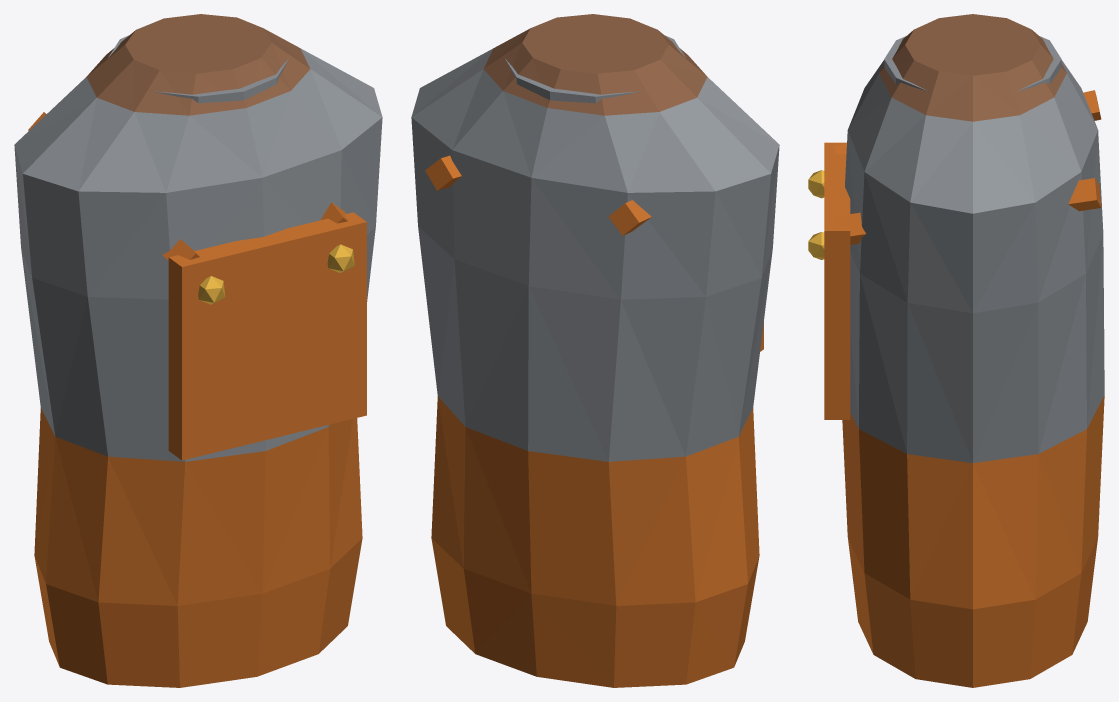
Rendered from PersonHelper2Body.obj.
3 renders of one model, left to right at view 1: azimuth 30°, elevation 25°; view 2: azimuth 150°, elevation 25°; view 3: azimuth 270°, elevation 25°, orthographic. The views are drawn at different scales.
Parts seen in each view (by area): view 1: PersonHelper2Body; view 2: PersonHelper2Body; view 3: PersonHelper2Body.
Part boxes in pixels (left/top/right/bottom): PersonHelper2Body: left=14, top=14, right=382, bottom=687; PersonHelper2Body: left=411, top=14, right=779, bottom=687; PersonHelper2Body: left=808, top=14, right=1104, bottom=687.
Size of the model in its own units: 0.38 by 0.61 by 0.284.
